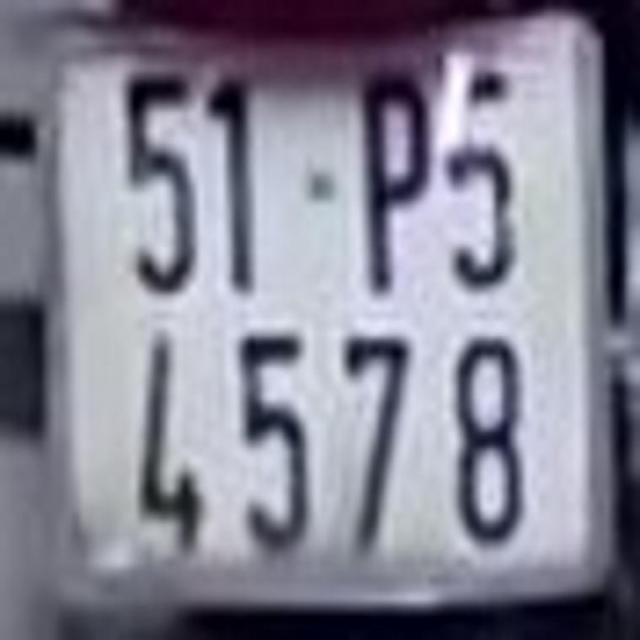1: (203, 70, 261, 294)
4: (132, 322, 213, 553)
5: (443, 65, 523, 289), (233, 325, 314, 544), (123, 66, 196, 297)
7: (332, 326, 415, 558)
8: (447, 332, 531, 546)
P: (356, 63, 432, 296)
